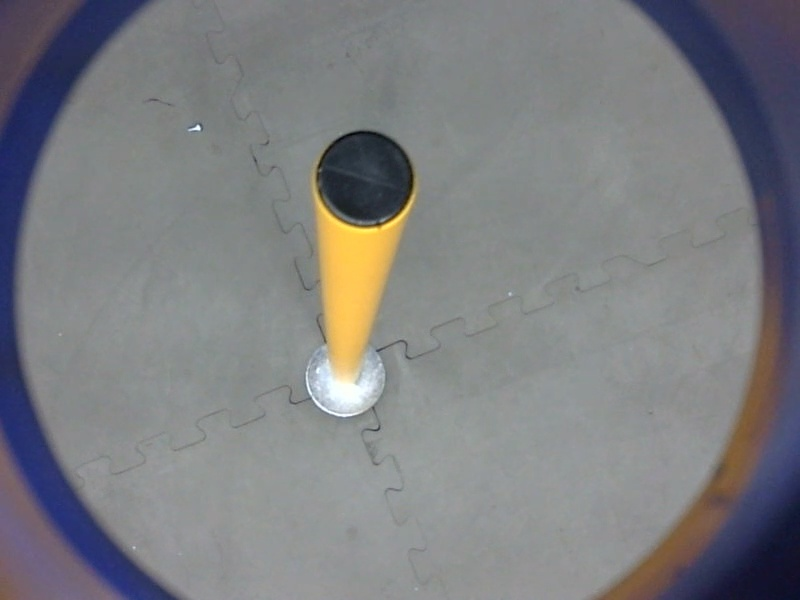tip: (307, 123, 423, 235)
